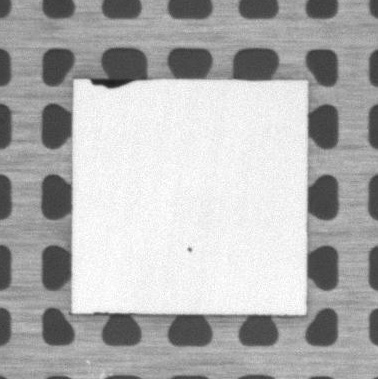DIE_INK: (187, 246, 194, 254)
